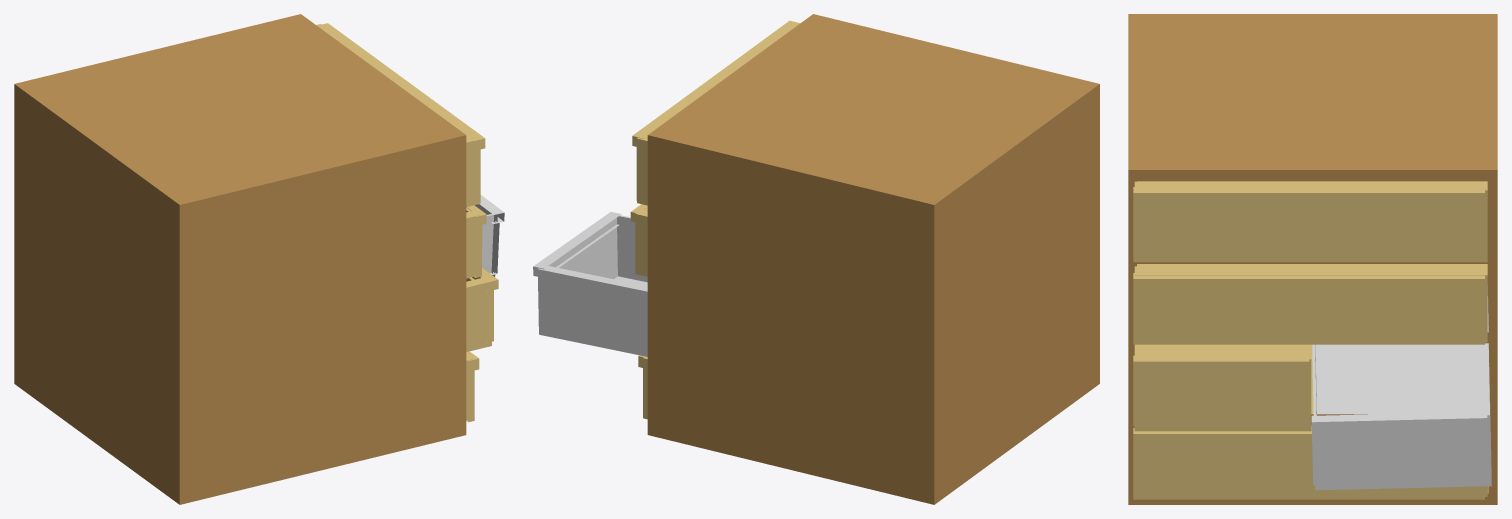
The picture shows the model from 3 angles, left to right: view 1: azimuth 30°, elevation 25°; view 2: azimuth 150°, elevation 25°; view 3: azimuth 270°, elevation 25°; orthographic projection. The views are drawn at different scales.
Visible parts, largest first — view 1: Cajonera.001, Cajon1.001, Cajon3.001, cajon3.002, Cajon2.001, Cajon4.001; view 2: Cajonera.001, cajon3.002, Cajon1.001, Cajon2.001; view 3: Cajonera.001, Cajon1.001, Cajon2.001, cajon3.002, Cajon3.001, Cajon4.001.
Boxes of the visible parts, x1,y1,x2,y2 form: Cajonera.001: (14,14,466,504); Cajon1.001: (316,23,485,206); Cajon3.001: (466,268,498,351); cajon3.002: (475,195,504,276); Cajon2.001: (466,205,486,278); Cajon4.001: (466,351,479,422); Cajonera.001: (647,14,1099,504); cajon3.002: (533,212,647,356); Cajon1.001: (632,20,800,205); Cajon2.001: (630,204,647,276); Cajonera.001: (1128,14,1497,504); Cajon1.001: (1133,181,1487,262); Cajon2.001: (1133,264,1487,344); cajon3.002: (1311,285,1491,490); Cajon3.001: (1133,344,1311,431); Cajon4.001: (1133,344,1487,499).
Size of the model in its own units: 284 by 200 by 200.
